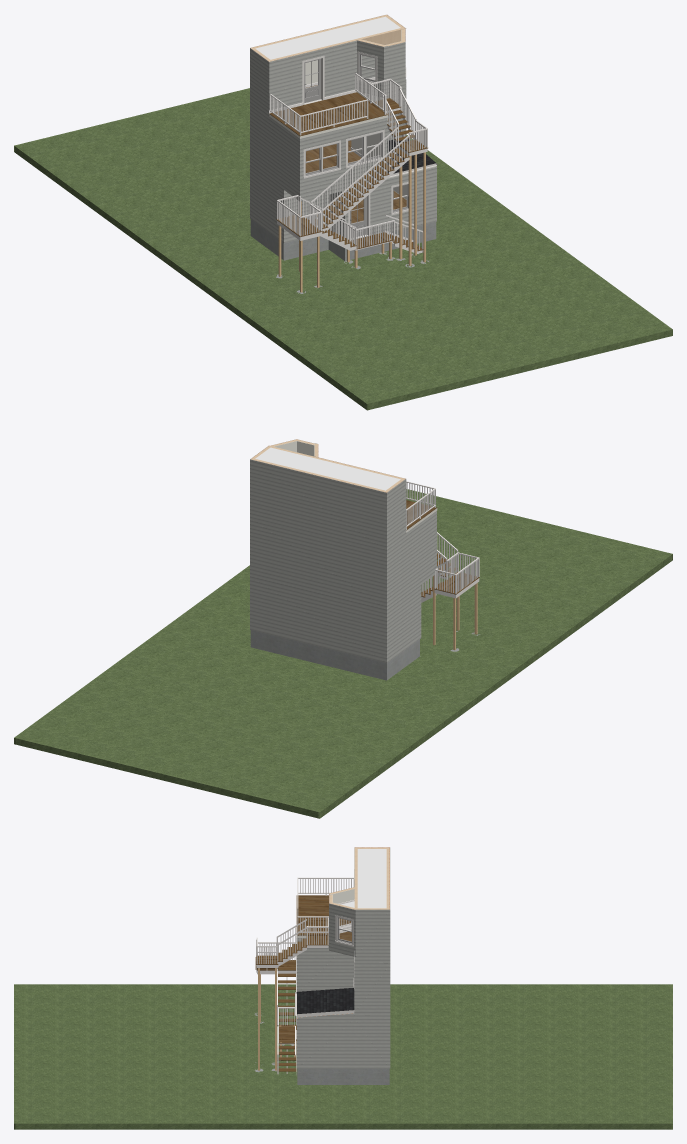
File: casa-1607.glb
3 renders of one model, top to bottom at view 1: azimuth 30°, elevation 25°; view 2: azimuth 150°, elevation 25°; view 3: azimuth 270°, elevation 25°, orthographic. The views are drawn at different scales.
Visible parts, largest first — view 1: geo_122-node, geo_68-node, geo_11-node, geo_59-node, geo_61-node, geo_44-node, geo_48-node; view 2: geo_122-node, geo_68-node, geo_11-node, geo_61-node, geo_59-node, geo_48-node, geo_44-node; view 3: geo_122-node, geo_68-node, geo_11-node, geo_59-node, geo_61-node, geo_69-node, geo_48-node, geo_44-node.
Boxes of the visible parts, x1,y1,x2,y2 form: geo_122-node: (14,88,672,410); geo_68-node: (250,15,436,243); geo_11-node: (255,16,437,253); geo_59-node: (269,85,427,251); geo_61-node: (250,191,436,293); geo_44-node: (278,147,425,292); geo_48-node: (251,15,405,61); geo_122-node: (14,489,672,818); geo_68-node: (250,439,436,663); geo_11-node: (255,441,479,602); geo_61-node: (250,630,480,680); geo_59-node: (406,500,479,597); geo_48-node: (251,439,404,492); geo_44-node: (433,575,477,650); geo_122-node: (14,984,672,1129); geo_68-node: (296,847,390,1068); geo_11-node: (256,849,386,1074); geo_59-node: (255,895,351,1071); geo_61-node: (254,1012,389,1084); geo_69-node: (297,988,354,1014); geo_48-node: (297,847,389,1018); geo_44-node: (258,968,295,1070).
Bounding box in the file's own units: 15.24 × 9.78 × 30.48.
Materials: 12 (12 with a texture image).
